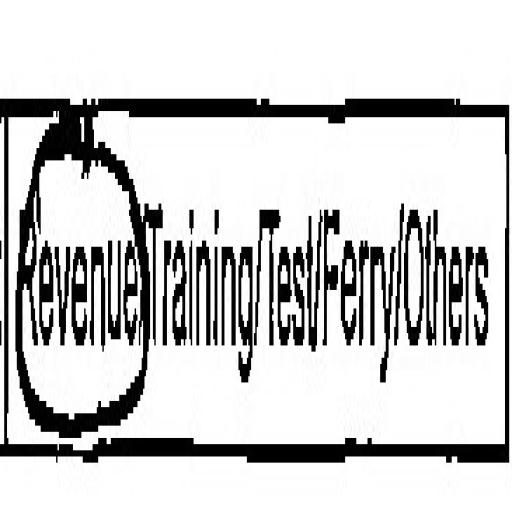check: (0, 9, 149, 512)
